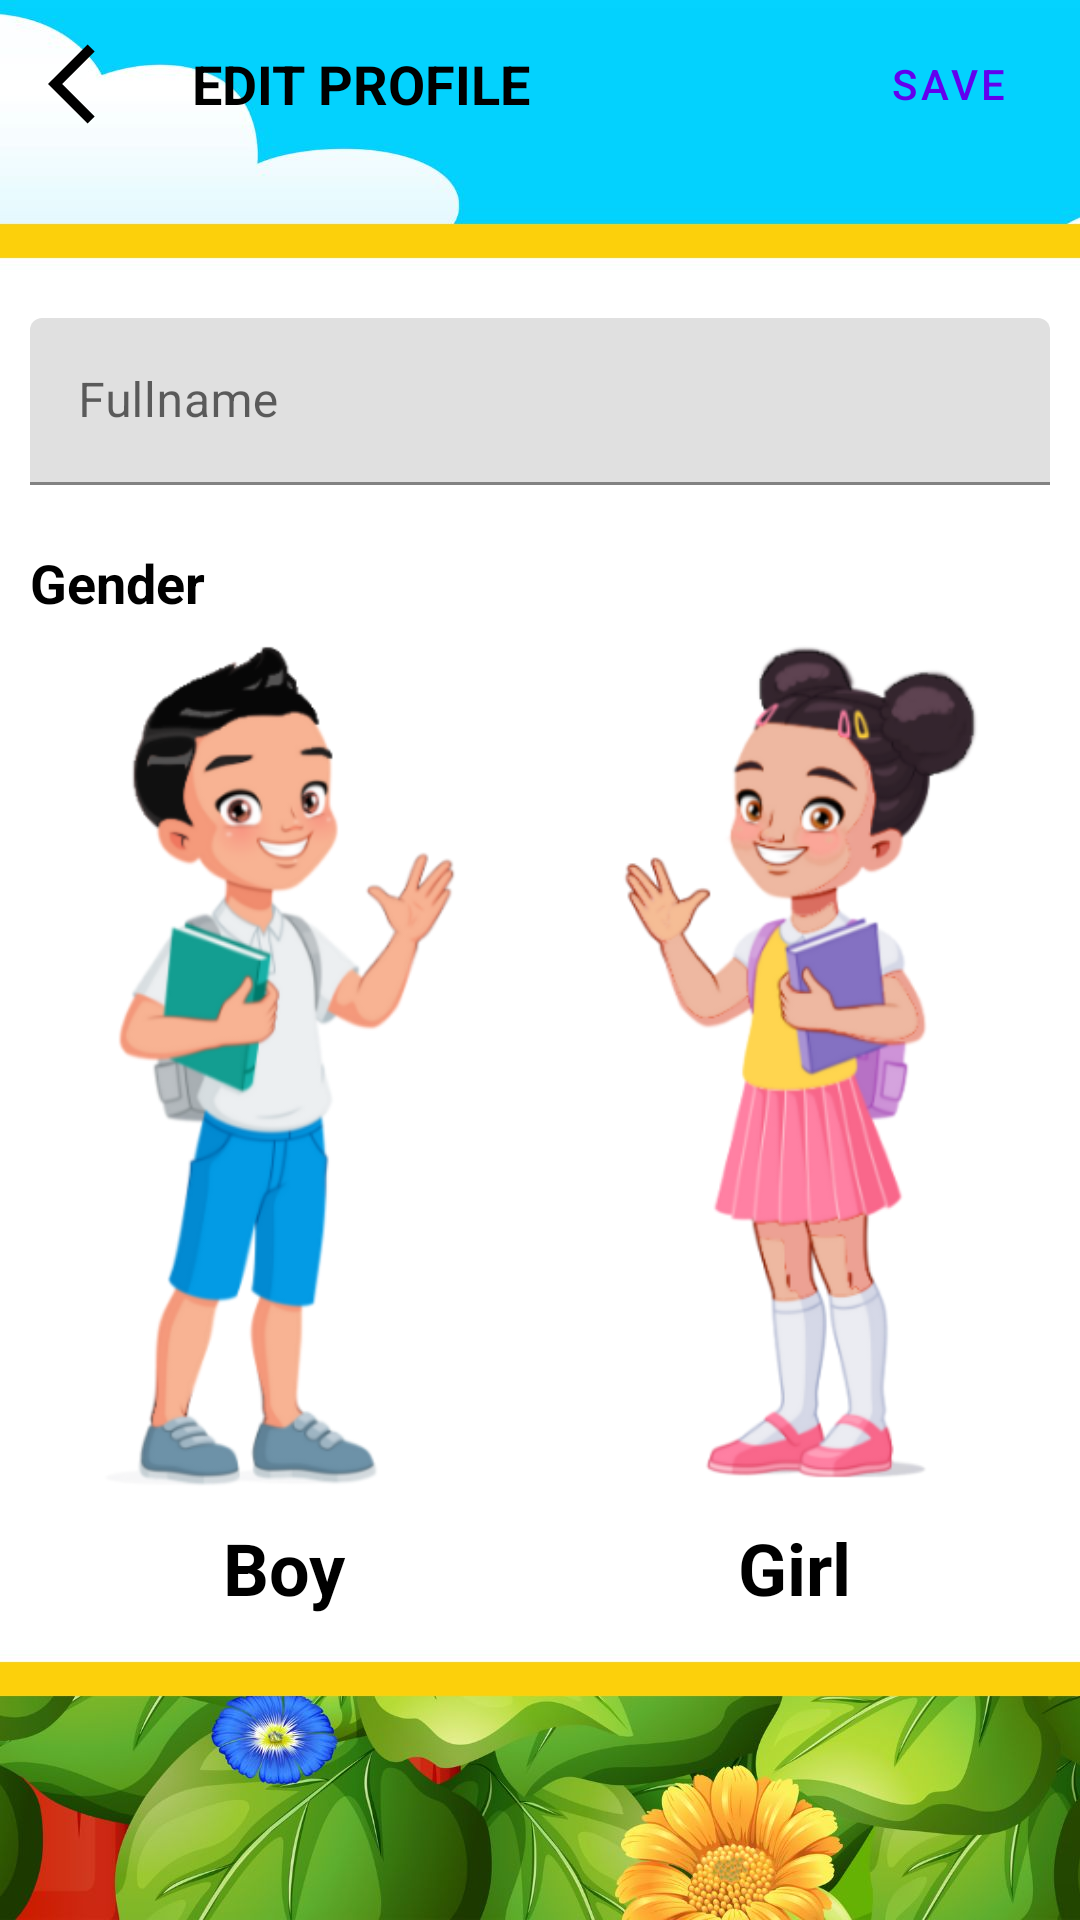

Point at icon controls on the screen. Image size 1080x1920, points as [x,y].
back: [96,80]
